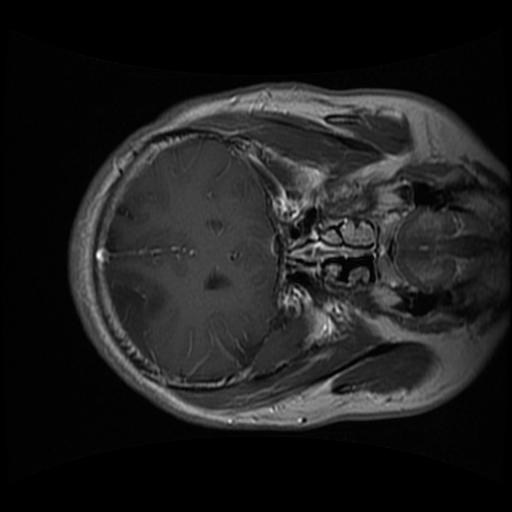glioma: (106, 265, 168, 357)
